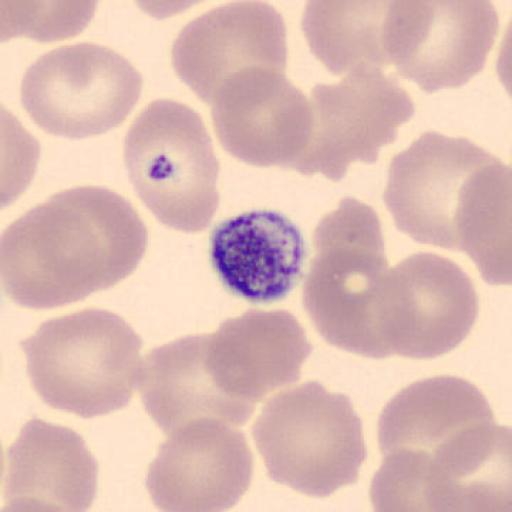Platelet: (206, 207, 310, 305)
RBC: (288, 60, 416, 180), (382, 128, 503, 252), (20, 305, 146, 421), (250, 378, 368, 499), (122, 95, 221, 236), (170, 0, 290, 111), (374, 373, 496, 482), (136, 333, 258, 440), (19, 40, 145, 142), (372, 249, 480, 362), (299, 244, 402, 360), (42, 184, 150, 294), (2, 198, 103, 311), (380, 0, 500, 95), (208, 64, 314, 170), (299, 0, 436, 80), (144, 416, 256, 512), (203, 306, 313, 401), (276, 78, 375, 182), (0, 414, 100, 512), (429, 130, 510, 250), (422, 420, 512, 512), (452, 161, 512, 289), (299, 0, 396, 78), (309, 194, 388, 288), (367, 445, 457, 512), (2, 105, 42, 211), (4, 1, 100, 43), (129, 0, 278, 21), (493, 0, 512, 101), (127, 0, 217, 21), (0, 495, 81, 512), (2, 0, 32, 45), (495, 28, 512, 102)
